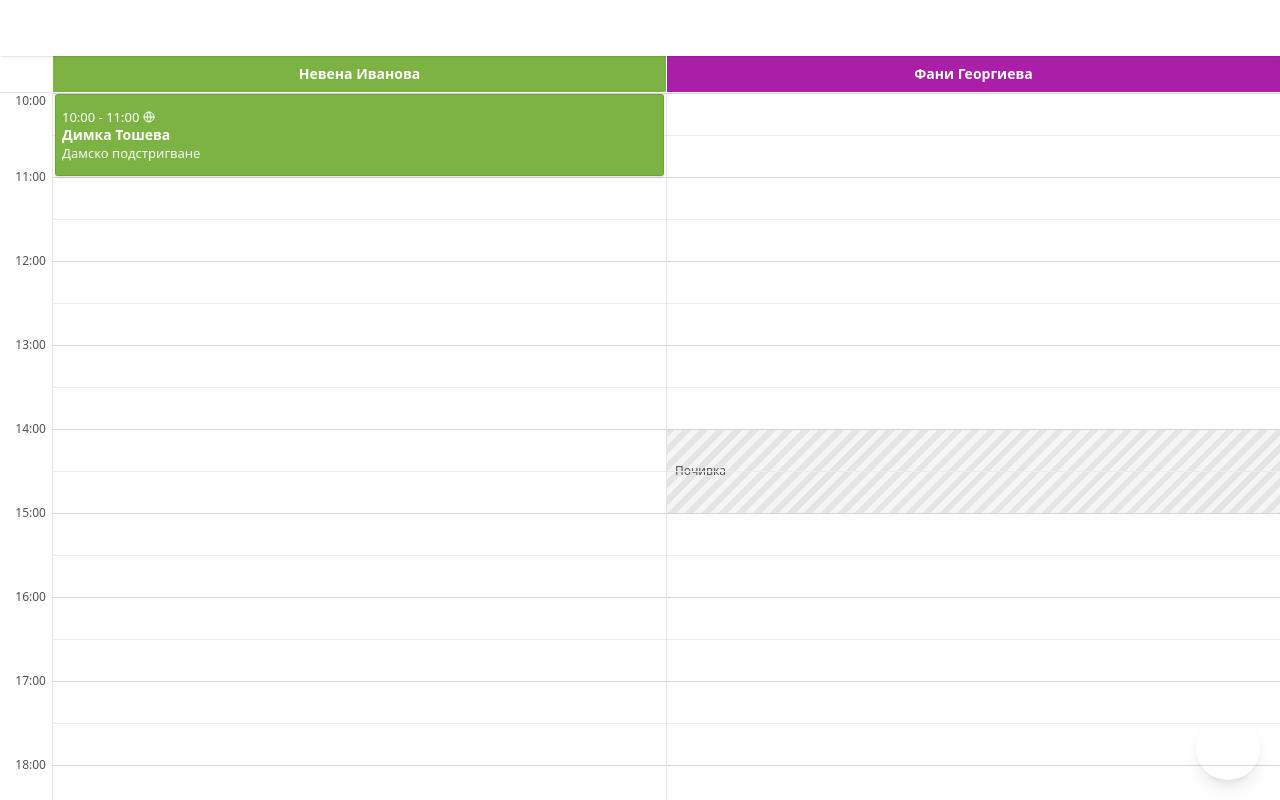
DayCalendar › opens the new booking form with the + button
The image size is (1280, 800).
Expected: the text "Димка Тошева" is shown, [62,125,170,144]
What coordinates should you click on to do the following:
click the button named "Нов час"
I would click on:
 (1228, 748)
Its box is [1196,716,1260,780].
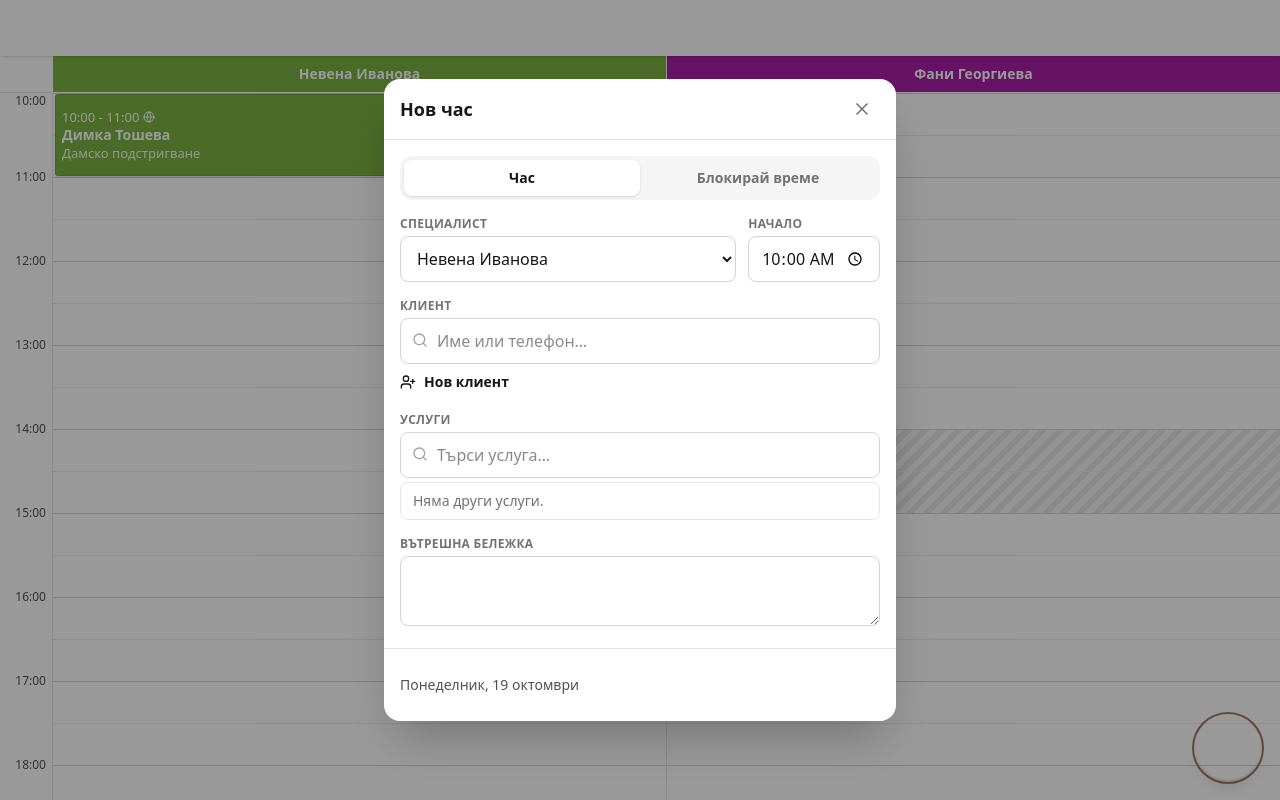
Result: the text "Специалист" is shown at [400,215,487,232]
